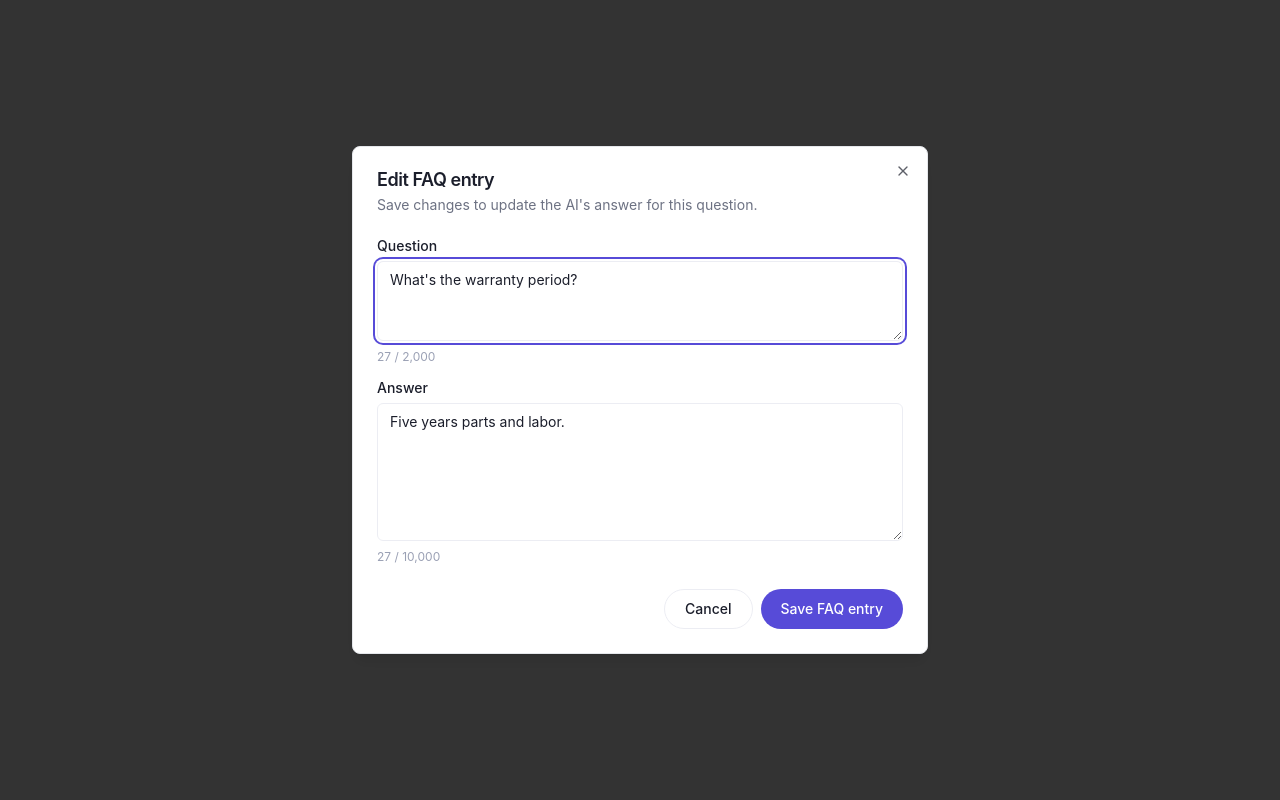
Test: EditFaqDialog — KAN-XXX › Test 4 — 404 error surfaces inline
This screenshot has width=1280, height=800.
Replace the text in the text box labelled "Answer" with "new answer" at [640, 472], box [377, 403, 903, 541]
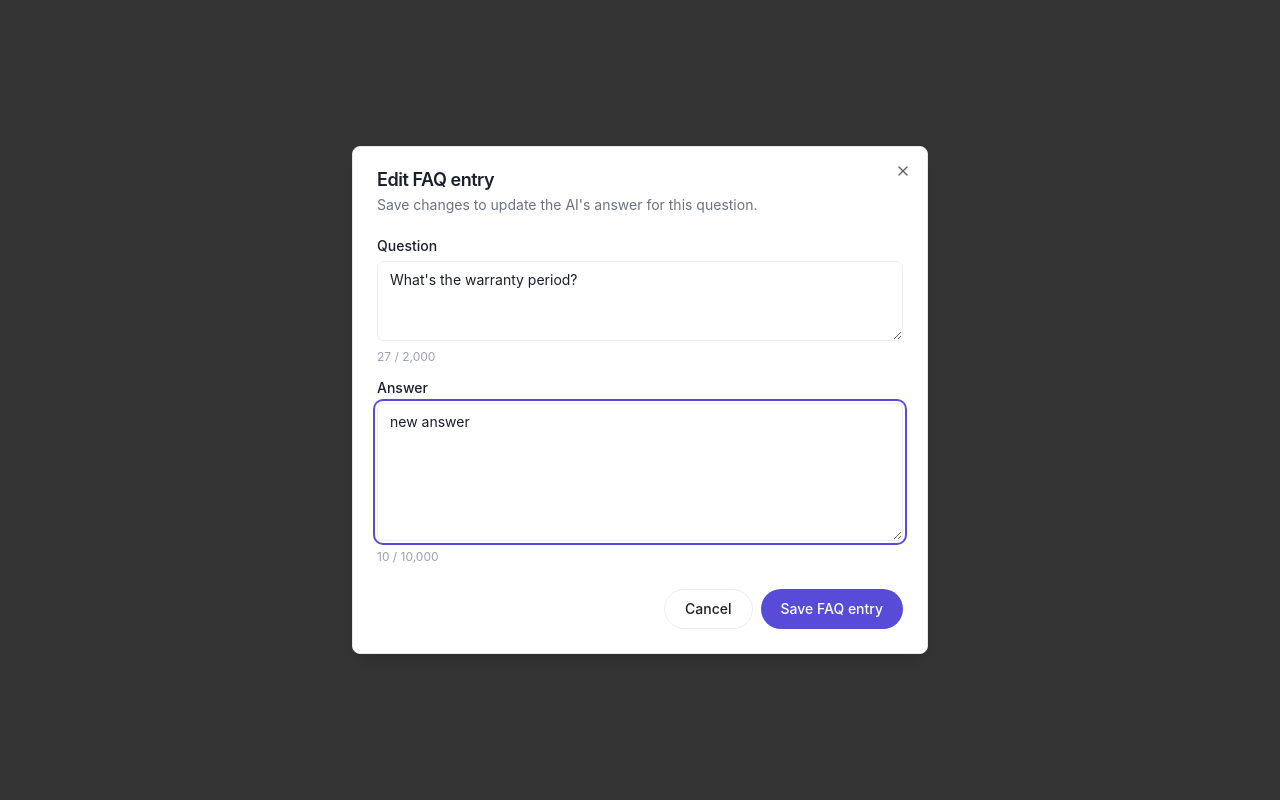
Click the button "Save FAQ entry" at [832, 609], box [760, 589, 903, 629]
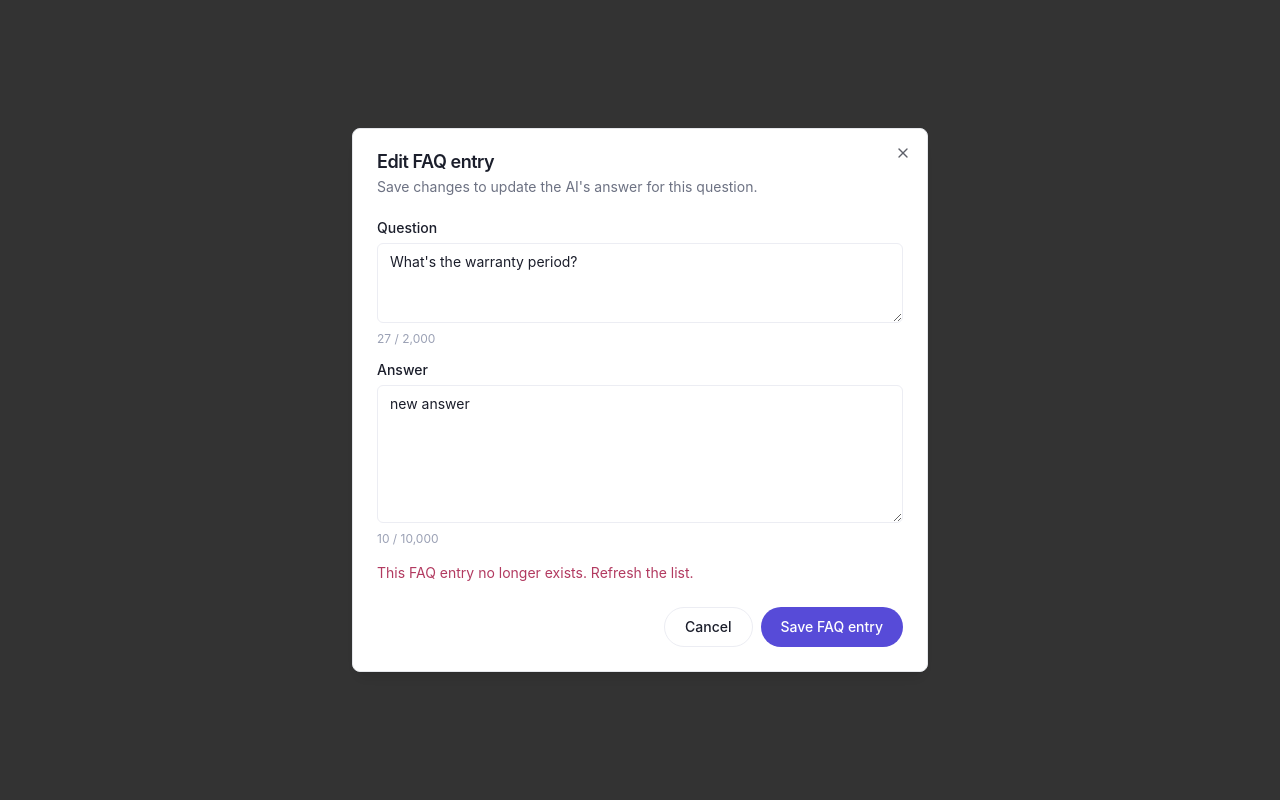
Result: the message "This FAQ entry no longer exists. Refresh the list." is shown at [377, 564, 694, 581]
